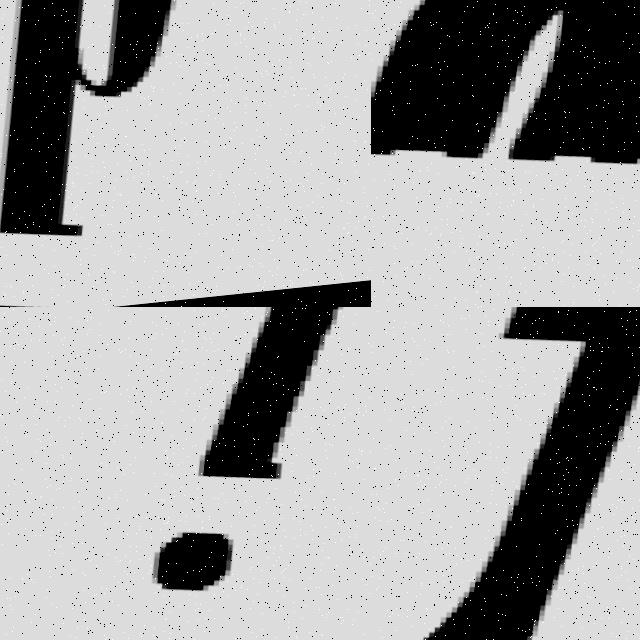D: (0, 0, 229, 272)
J: (122, 307, 371, 639)
R: (371, 307, 640, 640)
W: (371, 0, 640, 240)
